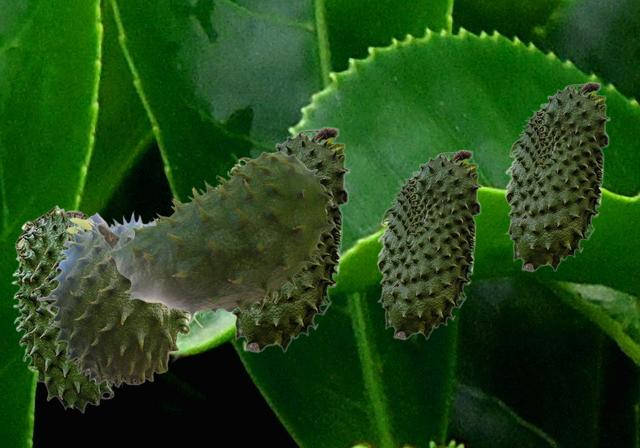guyabano: (96, 151, 335, 323), (37, 210, 203, 387), (230, 126, 349, 352), (11, 204, 123, 412), (504, 81, 609, 271), (376, 149, 481, 339)
